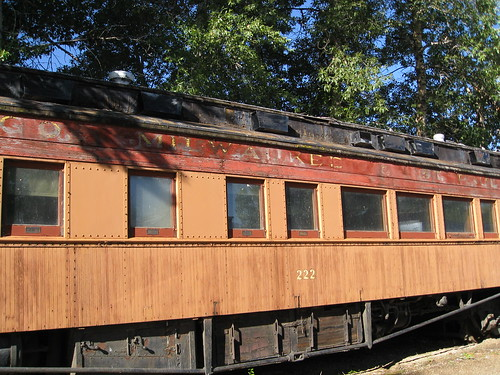train: (1, 77, 485, 375)
vegetation: (1, 1, 488, 122)
